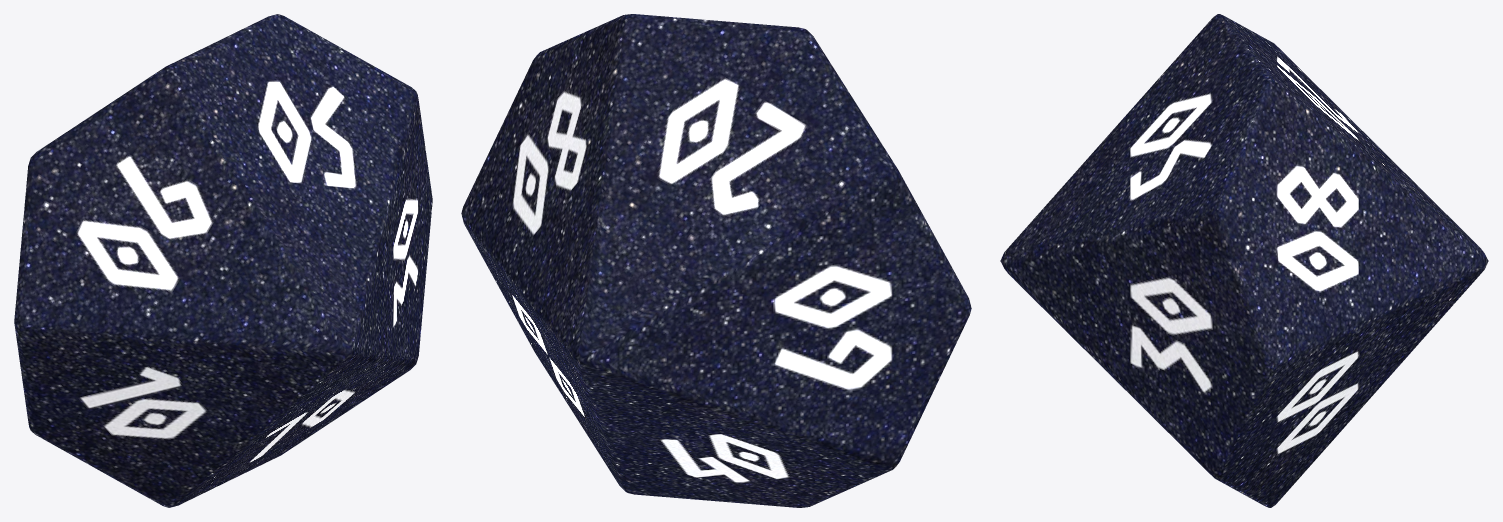
Rendered from dicemodel_d100.gltf.
The picture shows the model from 3 angles, left to right: view 1: azimuth 30°, elevation 25°; view 2: azimuth 150°, elevation 25°; view 3: azimuth 270°, elevation 25°; orthographic projection. The views are drawn at different scales.
Parts seen in each view (by area): view 1: dicemodel_d100; view 2: dicemodel_d100; view 3: dicemodel_d100.
Part boxes in pixels (bbox=[...]): dicemodel_d100: bbox=[14, 14, 432, 507]; dicemodel_d100: bbox=[461, 14, 971, 507]; dicemodel_d100: bbox=[1000, 14, 1488, 507].
Bounding box in the file's own units: 171 × 163 × 167.
1 material, 1 textured.
